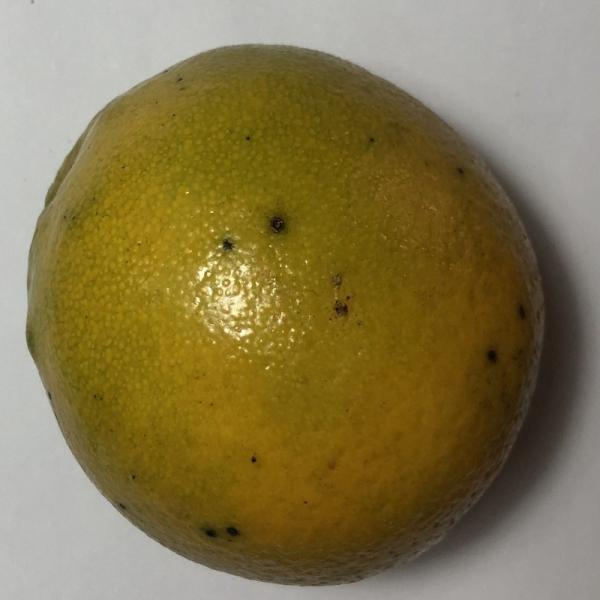Machas negras: (22, 20, 566, 586)
